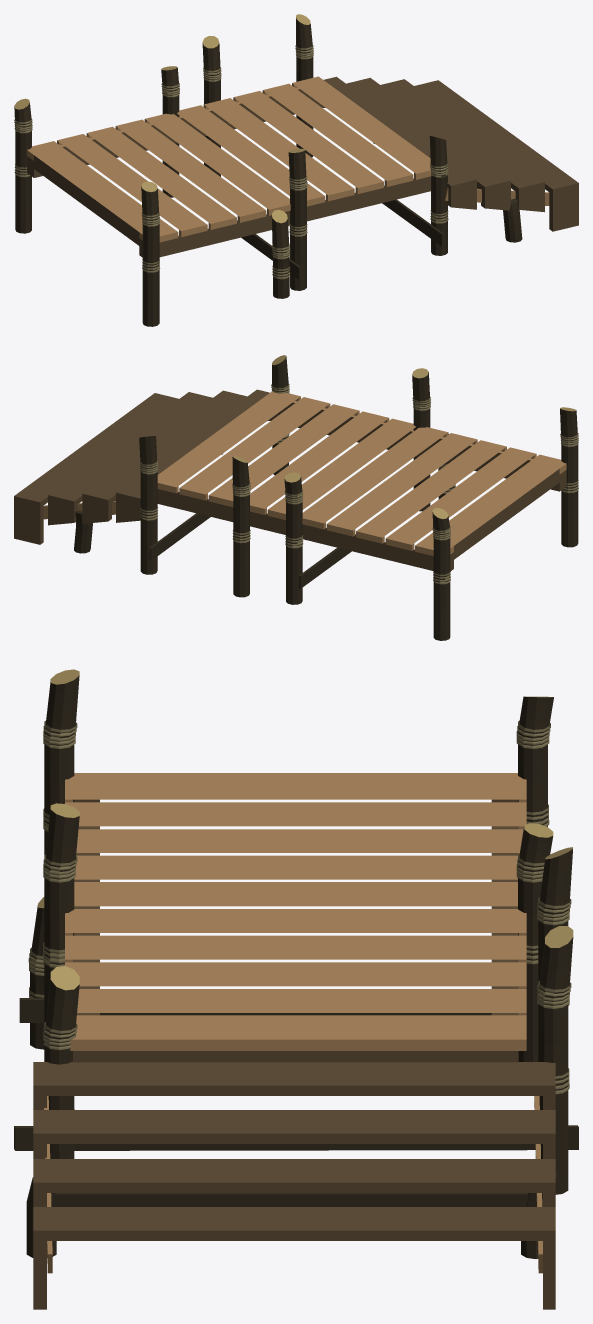
Rendered from PierPequeno1.1.fbx.
3 renders of one model, top to bottom at view 1: azimuth 30°, elevation 25°; view 2: azimuth 150°, elevation 25°; view 3: azimuth 270°, elevation 25°, orthographic. The views are drawn at different scales.
Visible parts, largest first — view 1: polySurface236; view 2: polySurface236; view 3: polySurface236.
Part boxes in pixels (x1,y1,x2,y2): polySurface236: (14, 14, 578, 326); polySurface236: (14, 355, 578, 640); polySurface236: (14, 669, 578, 1309).
Size of the model in its own units: 13.76 by 4.26 by 8.45.
